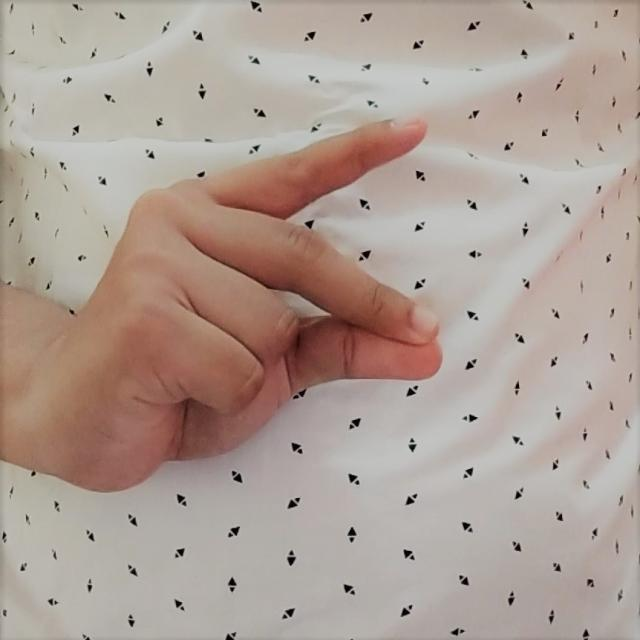R: (62, 96, 491, 506)
